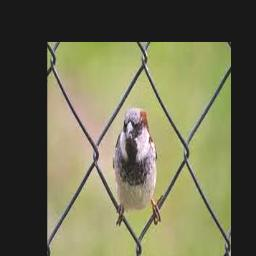Sparrow: (113, 107, 158, 213)
